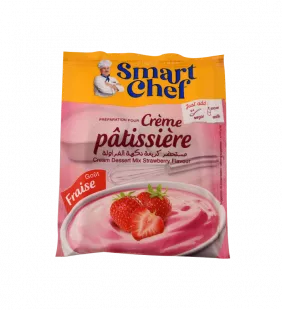Promotion: (45, 44, 236, 268)
